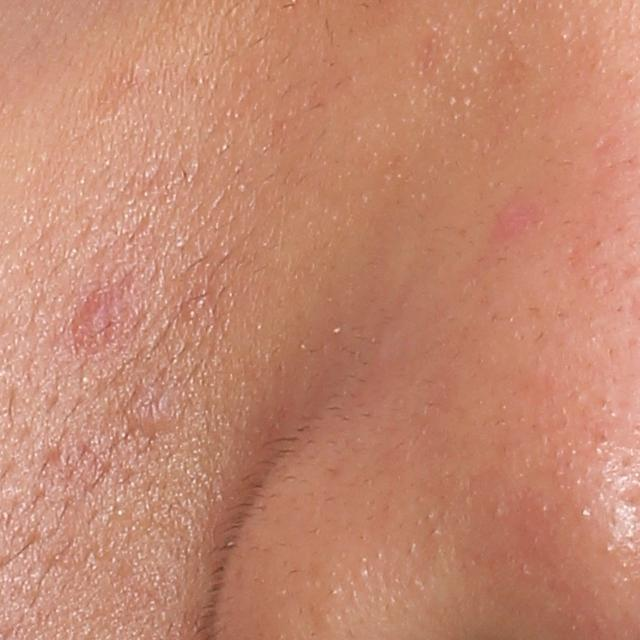comedo: (113, 389, 179, 439)
